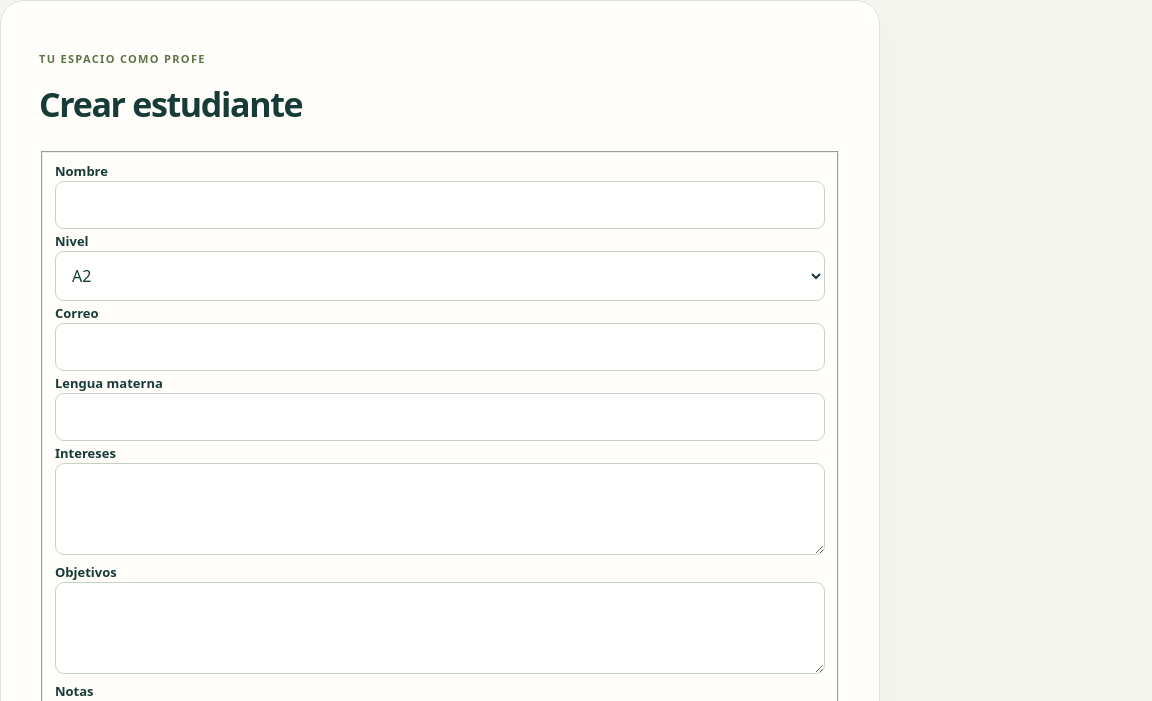
Scenario: rejects a malformed email without writing
The width and height of the screenshot is (1152, 701).
Expected: the heading "Crear estudiante" is shown, [39,81,302,127]
Type "Alba" into the field labelled "Nombre". click: coordinates (440, 204)
box: [55,180,825,228]
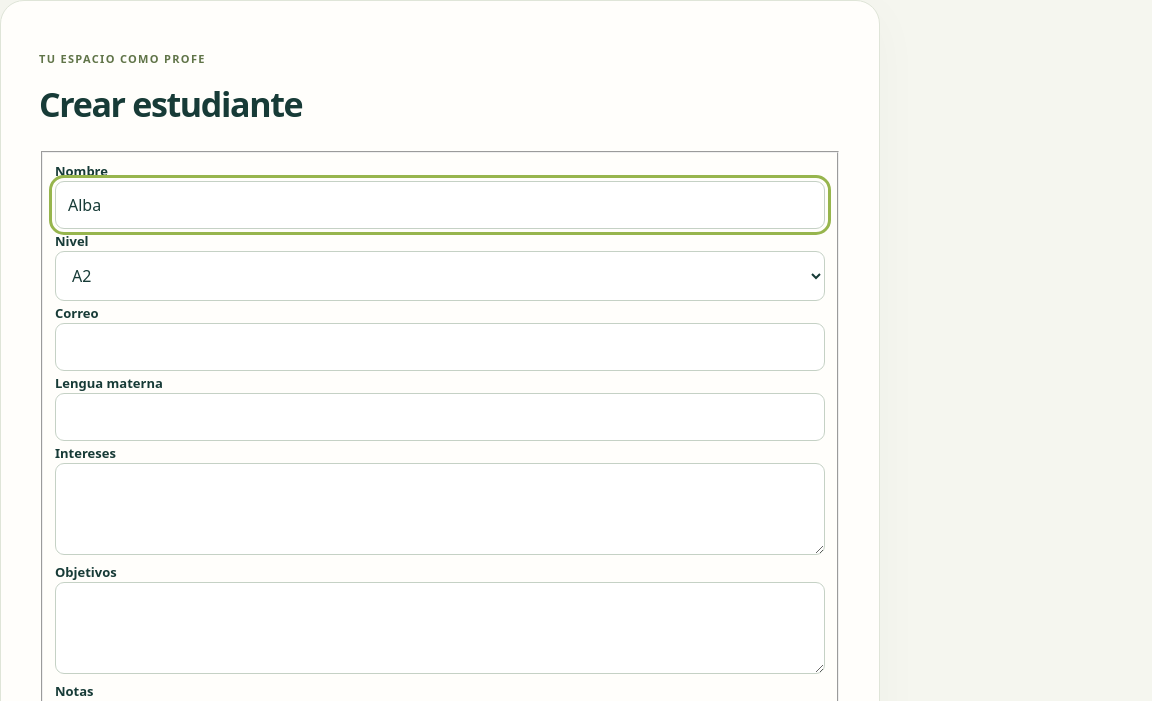
Type "nope" into the field labelled "Correo". click: coordinates (440, 346)
box: [55,322,825,370]
(page scrolled)
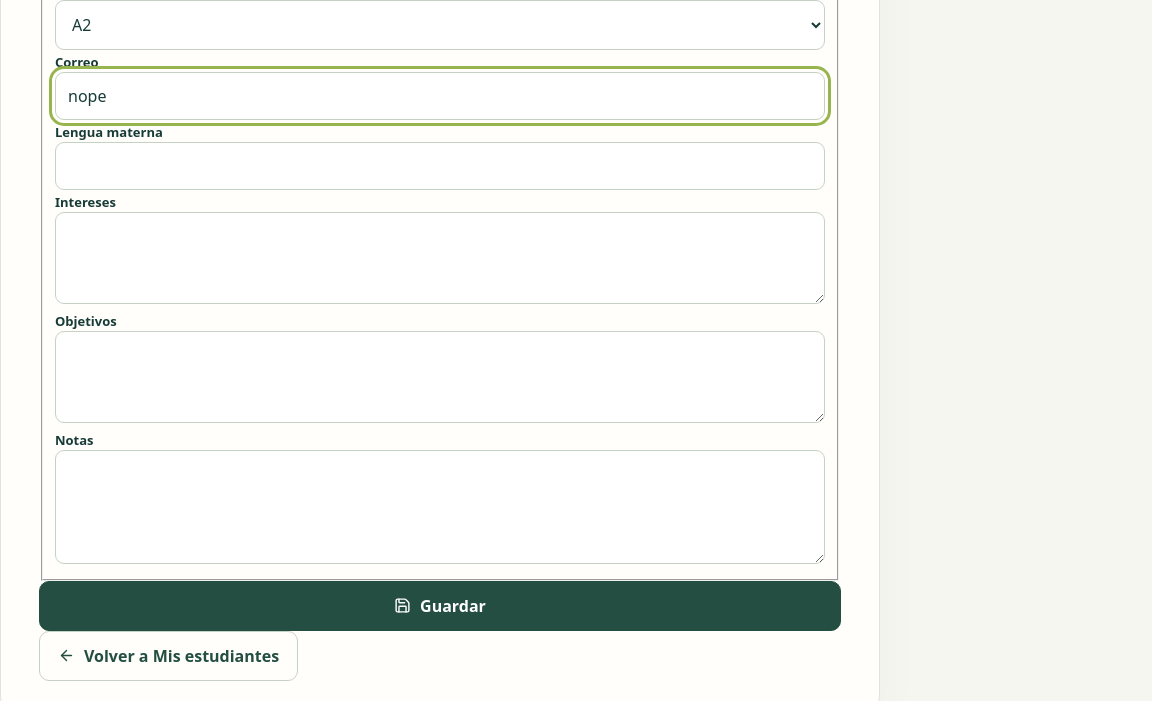
Click the button "Guardar". click: coordinates (440, 606)
box: [39,580,841,630]
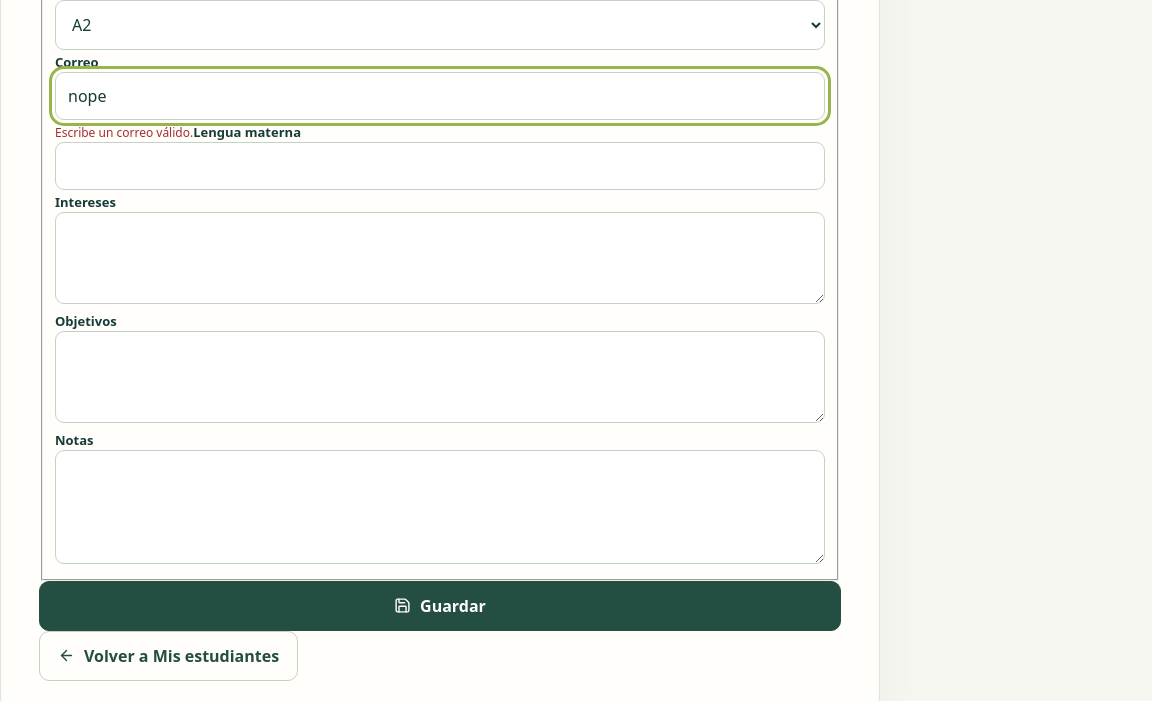
Expected: the text "Escribe un correo válido." is shown, [55,124,193,140]
